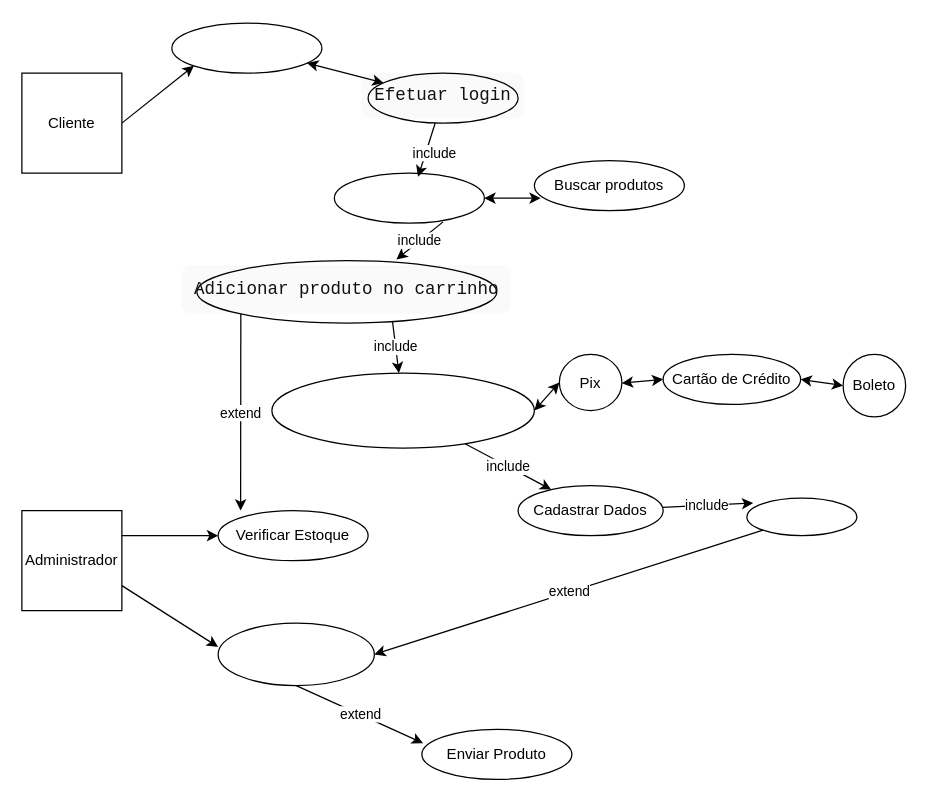
The diagram is 928 pixels wide and 801 high, and some of its shapes have lost their labels. Here are the shapes that lost their labels. From the top down, the box of each, then its label:
(171, 22, 322, 73): Fazer cadastro
(333, 172, 484, 223): Procurar produtos
(271, 372, 534, 448): Ir para etapa de pagamento
(746, 497, 857, 536): Pagar
(217, 622, 374, 686): Confirmar Pagamento
